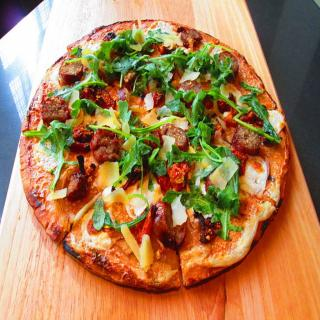Pizza: (19, 18, 289, 294)
